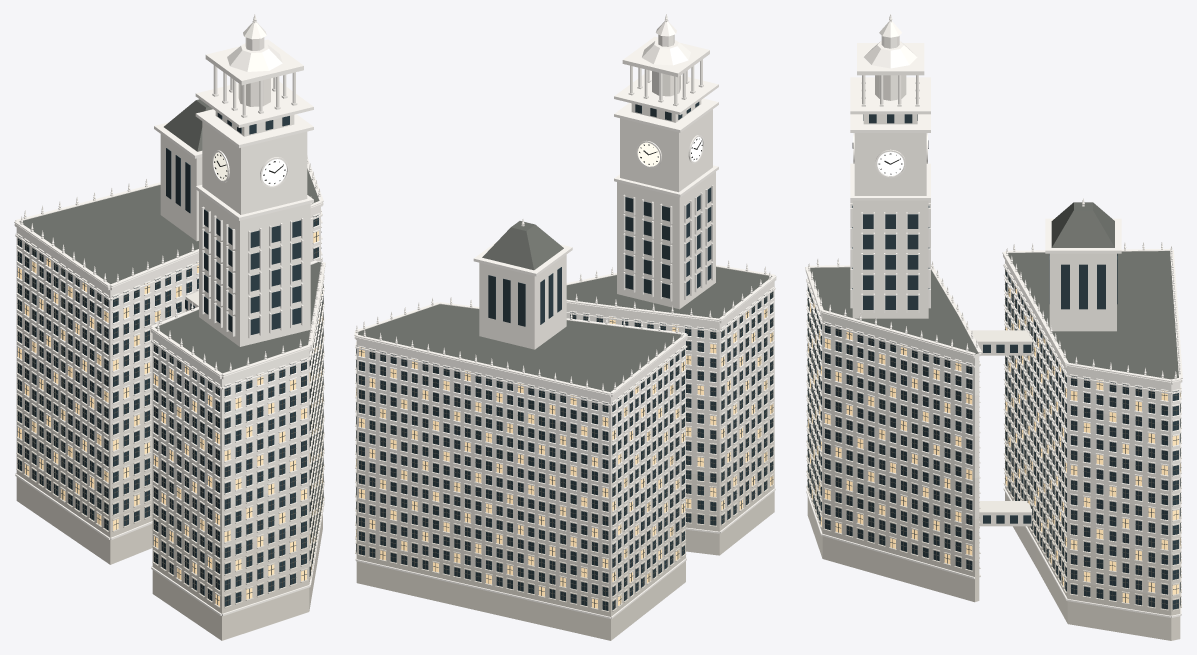
Rendered from wrigley_building.glb.
3 renders of one model, left to right at view 1: azimuth 30°, elevation 25°; view 2: azimuth 150°, elevation 25°; view 3: azimuth 270°, elevation 25°, orthographic. The views are drawn at different scales.
Parts seen in each view (by area): view 1: Night glazed terra cotta 5, Night glazed terra cotta 4, Unlit blue recessed glass, Night glazed terra cotta 0, Roof membrane, Night glazed terra cotta 3, Dark bronze frames, Night glazed terra cotta 2, Night glazed terra cotta 1, Night occupied office glass, Night ivory clock dials; view 2: Unlit blue recessed glass, Night glazed terra cotta 5, Night glazed terra cotta 4, Roof membrane, Night glazed terra cotta 0, Night glazed terra cotta 2, Night glazed terra cotta 1, Night glazed terra cotta 3, Dark bronze frames, Night occupied office glass, Night ivory clock dials; view 3: Unlit blue recessed glass, Night glazed terra cotta 5, Night glazed terra cotta 4, Roof membrane, Night glazed terra cotta 0, Night glazed terra cotta 3, Night glazed terra cotta 2, Night glazed terra cotta 1, Dark bronze frames, Night occupied office glass.
Boxes of the visible parts, x1=… form: Night glazed terra cotta 5: x1=14, y1=14, x2=325, y2=615; Night glazed terra cotta 4: x1=16, y1=78, x2=324, y2=463; Unlit blue recessed glass: x1=18, y1=113, x2=322, y2=606; Night glazed terra cotta 0: x1=16, y1=425, x2=324, y2=640; Roof membrane: x1=19, y1=99, x2=320, y2=373; Night glazed terra cotta 3: x1=16, y1=291, x2=324, y2=507; Dark bronze frames: x1=17, y1=216, x2=323, y2=605; Night glazed terra cotta 2: x1=16, y1=345, x2=324, y2=552; Night glazed terra cotta 1: x1=16, y1=393, x2=324, y2=596; Night occupied office glass: x1=18, y1=231, x2=322, y2=606; Night ivory clock dials: x1=214, y1=152, x2=286, y2=185; Unlit blue recessed glass: x1=356, y1=102, x2=773, y2=610; Night glazed terra cotta 5: x1=354, y1=14, x2=776, y2=618; Night glazed terra cotta 4: x1=355, y1=71, x2=774, y2=475; Roof membrane: x1=358, y1=221, x2=771, y2=392; Night glazed terra cotta 0: x1=355, y1=445, x2=774, y2=640; Night glazed terra cotta 2: x1=355, y1=387, x2=774, y2=558; Night glazed terra cotta 1: x1=355, y1=416, x2=774, y2=599; Night glazed terra cotta 3: x1=355, y1=344, x2=774, y2=517; Dark bronze frames: x1=356, y1=292, x2=773, y2=610; Night occupied office glass: x1=356, y1=308, x2=773, y2=608; Night ivory clock dials: x1=638, y1=136, x2=702, y2=166; Unlit blue recessed glass: x1=808, y1=114, x2=1180, y2=609; Night glazed terra cotta 5: x1=805, y1=14, x2=1182, y2=617; Night glazed terra cotta 4: x1=806, y1=75, x2=1181, y2=467; Roof membrane: x1=810, y1=202, x2=1178, y2=379; Night glazed terra cotta 0: x1=806, y1=442, x2=1181, y2=640; Night glazed terra cotta 3: x1=806, y1=330, x2=1181, y2=526; Night glazed terra cotta 2: x1=806, y1=368, x2=1181, y2=554; Night glazed terra cotta 1: x1=806, y1=412, x2=1181, y2=597; Dark bronze frames: x1=807, y1=269, x2=1181, y2=608; Night occupied office glass: x1=808, y1=284, x2=1180, y2=602.
Bounding box in the file's own units: 69.81 × 132 × 84.24.
